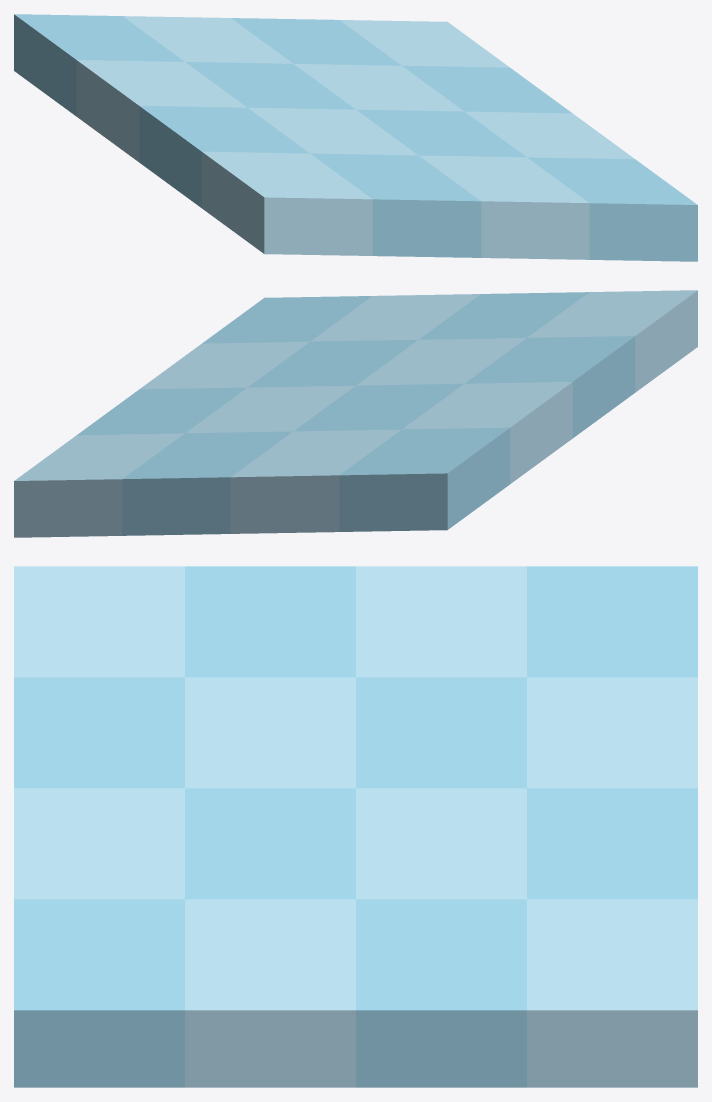
File: inc2.fbx
3 renders of one model, top to bottom at view 1: azimuth 30°, elevation 25°; view 2: azimuth 150°, elevation 25°; view 3: azimuth 270°, elevation 25°, orthographic. The views are drawn at different scales.
Parts seen in each view (by area): view 1: Cube.002; view 2: Cube.002; view 3: Cube.002.
Part boxes in pixels (left/top/right/bottom): Cube.002: left=14, top=14, right=697, bottom=261; Cube.002: left=14, top=290, right=697, bottom=537; Cube.002: left=14, top=566, right=697, bottom=1087.
Bounding box in the file's own units: 8 × 3 × 8.
